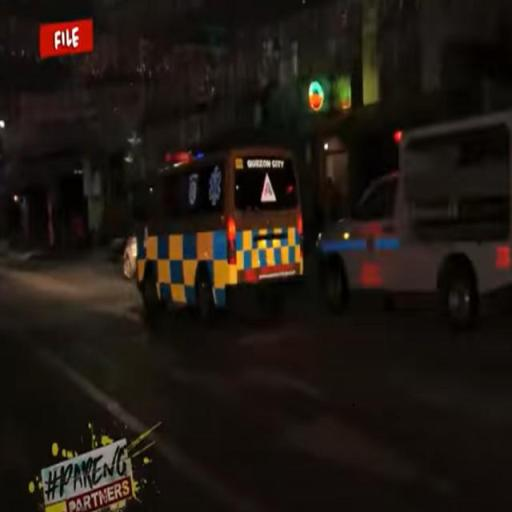Police car: (139, 148, 308, 328)
